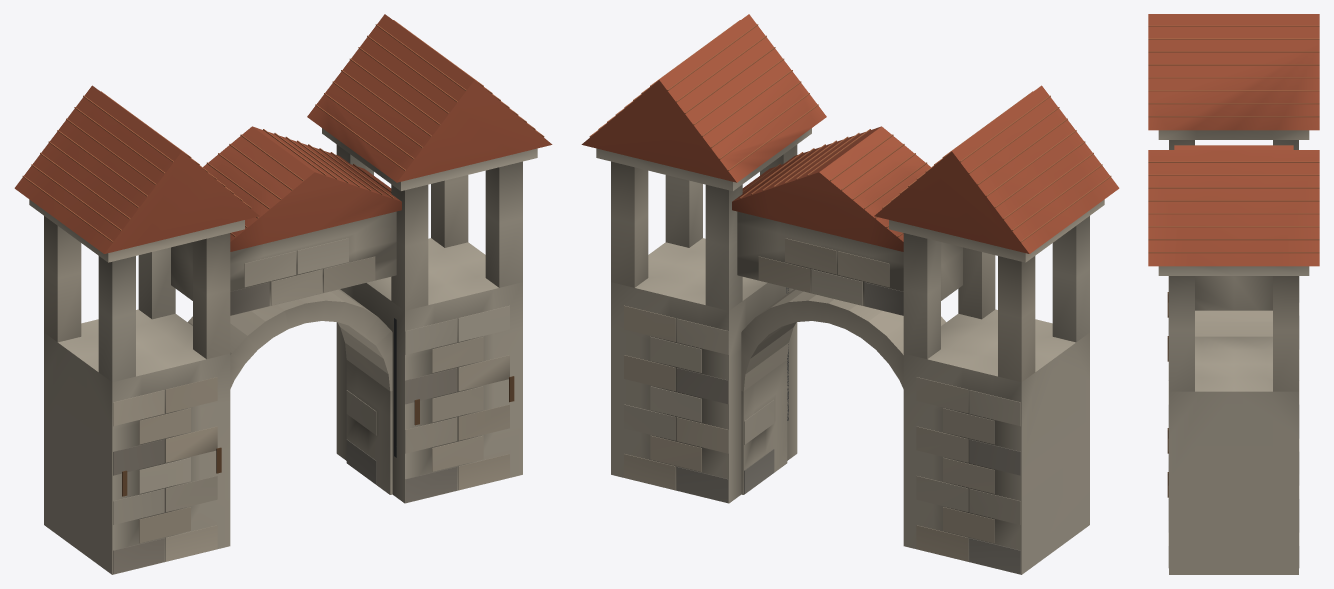
File: 03_gatehouse.glb
3 renders of one model, left to right at view 1: azimuth 30°, elevation 25°; view 2: azimuth 150°, elevation 25°; view 3: azimuth 270°, elevation 25°, orthographic. The views are drawn at different scales.
Parts seen in each view (by area): view 1: 03_gatehouse_stone, 03_gatehouse_roof, 03_gatehouse_ashlar_nocol, 03_gatehouse_ashlar, 03_gatehouse_mortar_nocol, 03_gatehouse_rooflight_nocol; view 2: 03_gatehouse_stone, 03_gatehouse_roof, 03_gatehouse_ashlar_nocol, 03_gatehouse_ashlar, 03_gatehouse_mortar_nocol, 03_gatehouse_rooflight_nocol; view 3: 03_gatehouse_roof, 03_gatehouse_stone, 03_gatehouse_rooflight_nocol, 03_gatehouse_ashlar, 03_gatehouse_ashlar_nocol.
Part boxes in pixels (<box>): 03_gatehouse_stone: <box>44,144,522,574</box>; 03_gatehouse_roof: <box>14,14,552,253</box>; 03_gatehouse_ashlar_nocol: <box>113,238,509,561</box>; 03_gatehouse_ashlar: <box>29,128,537,391</box>; 03_gatehouse_mortar_nocol: <box>113,282,457,574</box>; 03_gatehouse_rooflight_nocol: <box>22,20,544,242</box>; 03_gatehouse_stone: <box>611,144,1089,574</box>; 03_gatehouse_roof: <box>581,14,1119,253</box>; 03_gatehouse_ashlar_nocol: <box>624,238,1020,561</box>; 03_gatehouse_ashlar: <box>596,128,1104,391</box>; 03_gatehouse_mortar_nocol: <box>676,282,1020,574</box>; 03_gatehouse_rooflight_nocol: <box>589,20,1111,242</box>; 03_gatehouse_roof: <box>1148,14,1319,266</box>; 03_gatehouse_stone: <box>1169,140,1298,574</box>; 03_gatehouse_rooflight_nocol: <box>1148,25,1319,253</box>; 03_gatehouse_ashlar: <box>1158,130,1309,336</box>; 03_gatehouse_ashlar_nocol: <box>1168,276,1299,567</box>.
Bounding box in the file's own units: 95 × 84.5 × 33.
